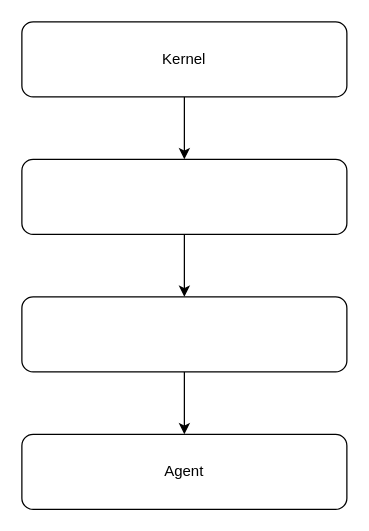
The diagram is 369 pixels wide and 531 high, and some of its shapes have lost their labels. Here are the shapes that lost their labels. From the top down, the centre of each, then its label:
point 184,196: Component
point 184,334: Module
